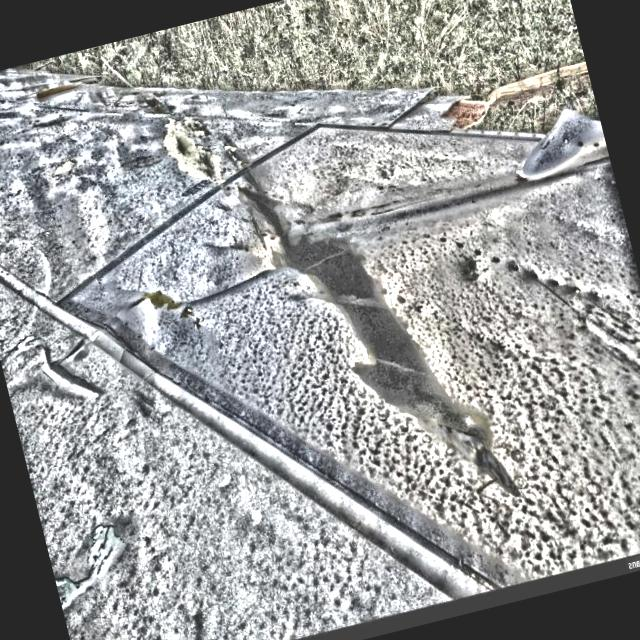crack: (233, 133, 513, 530), (170, 130, 194, 166)
